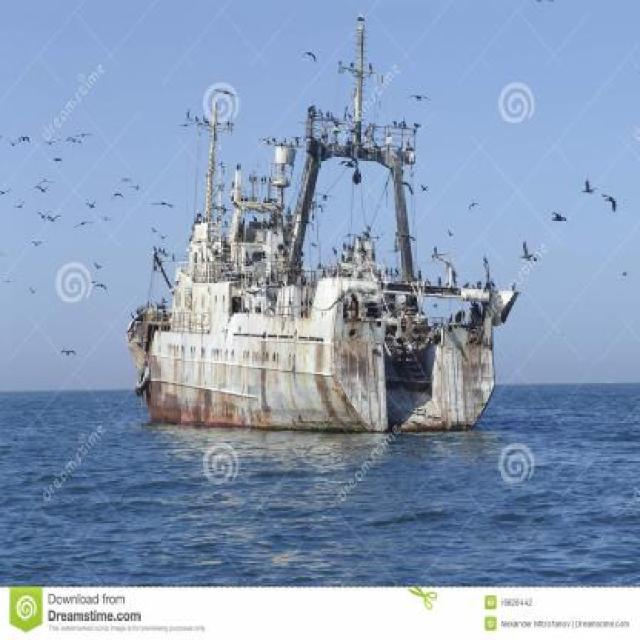corrosion: (126, 140, 520, 442)
